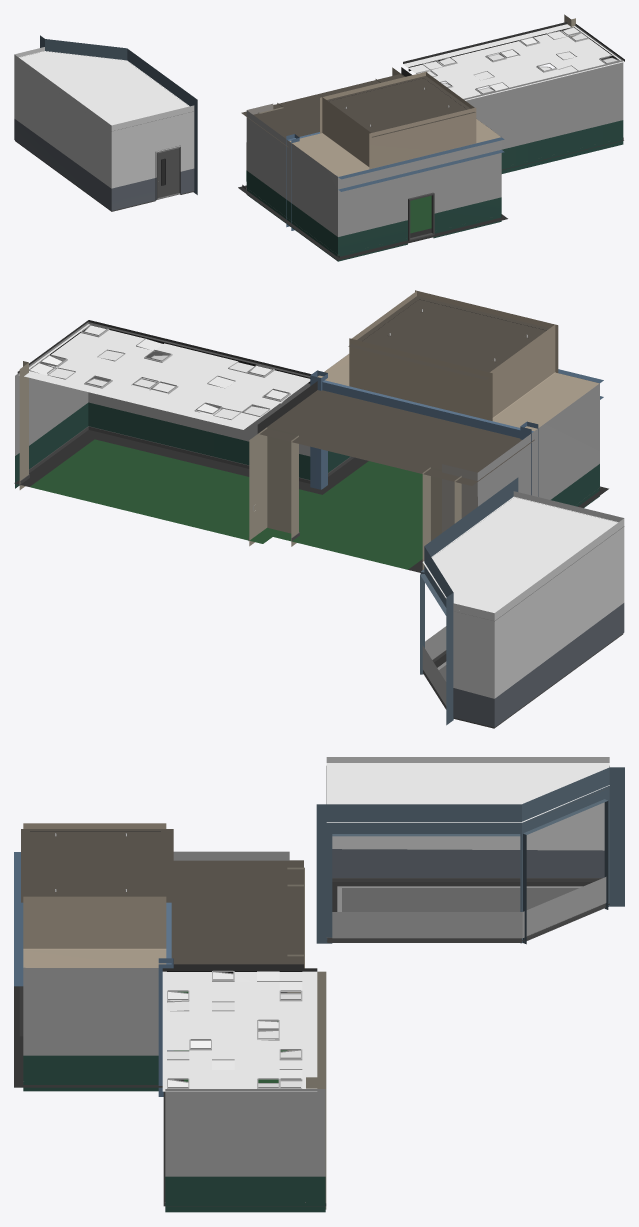
The model's file is SM_H_Building_Tide_MedicalRoom_29_ATLAS.fbx.
The picture shows the model from 3 angles, top to bottom: view 1: azimuth 30°, elevation 25°; view 2: azimuth 150°, elevation 25°; view 3: azimuth 270°, elevation 25°; orthographic projection. The views are drawn at different scales.
Visible parts, largest first — view 1: SM_H_Building_Tide_MedicalRoom_29_ATLAS; view 2: SM_H_Building_Tide_MedicalRoom_29_ATLAS; view 3: SM_H_Building_Tide_MedicalRoom_29_ATLAS.
Boxes of the visible parts, box(x1,y1,x2,y2) form: SM_H_Building_Tide_MedicalRoom_29_ATLAS: box(14, 14, 624, 261); SM_H_Building_Tide_MedicalRoom_29_ATLAS: box(14, 290, 624, 728); SM_H_Building_Tide_MedicalRoom_29_ATLAS: box(14, 757, 624, 1212).
Size of the model in its own units: 2865 by 2276 by 741.
